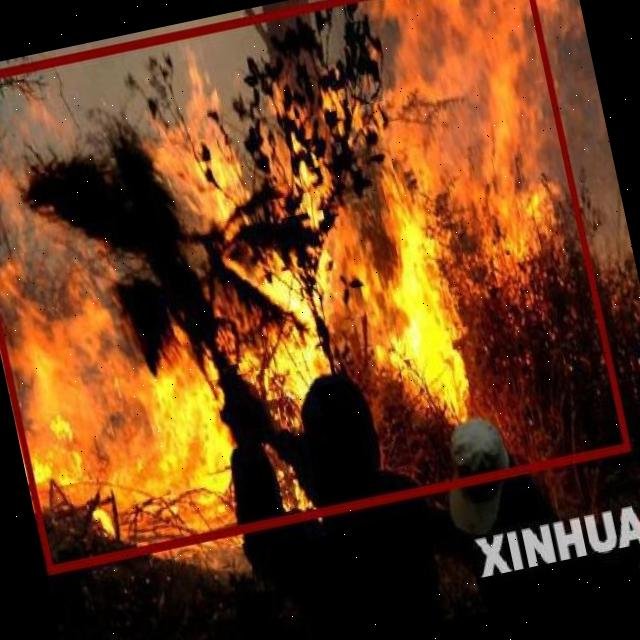fire: (0, 0, 629, 571)
